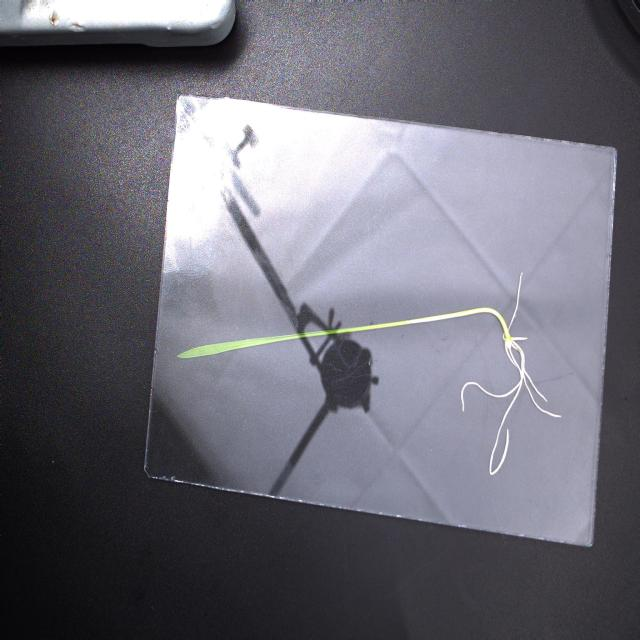leaf: (178, 342, 269, 357), (236, 329, 300, 349)
root: (505, 339, 547, 408), (490, 405, 511, 475), (461, 382, 498, 411), (508, 273, 522, 330), (538, 406, 561, 417)
stem: (292, 307, 508, 337)
